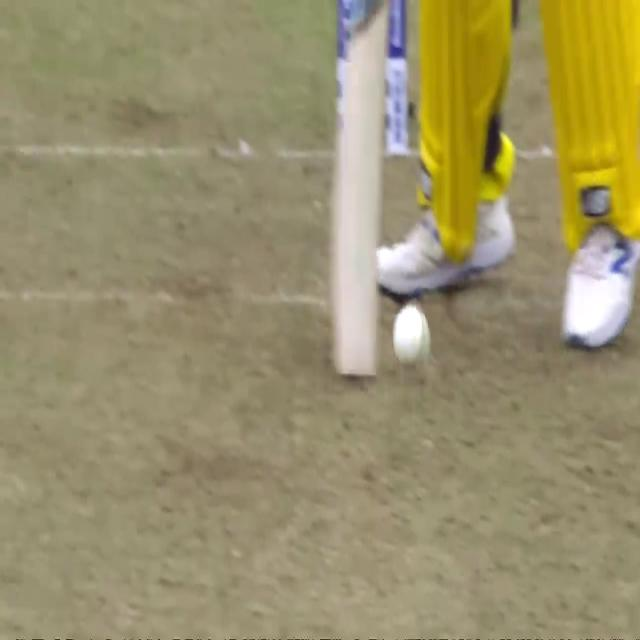ball: (382, 298, 440, 388)
